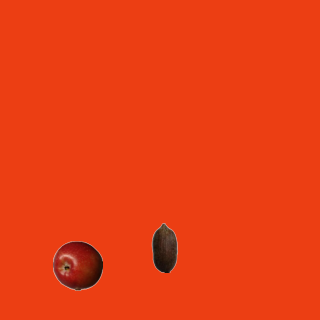Apple Braeburn: (52, 240, 102, 290)
Nut Pecan: (139, 222, 189, 272)
